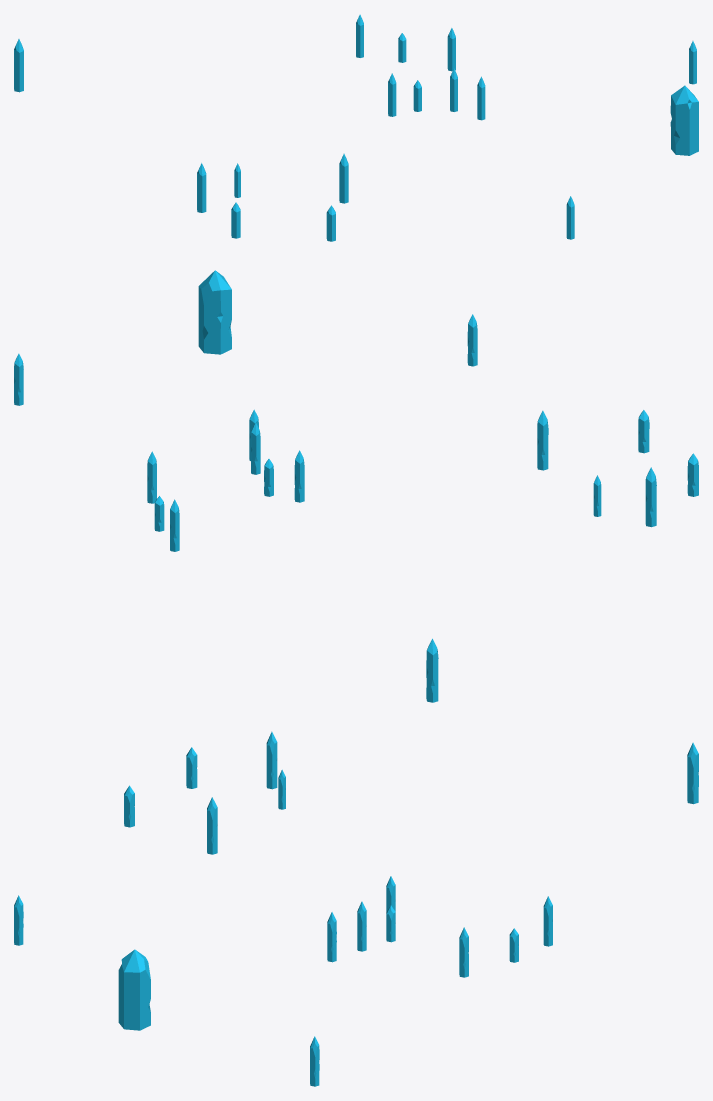
File: bright_crystal-compressed.glb
3 renders of one model, top to bottom at view 1: azimuth 30°, elevation 25°; view 2: azimuth 150°, elevation 25°; view 3: azimuth 270°, elevation 25°, orthographic. The views are drawn at different scales.
Parts seen in each view (by area): view 1: bright_crystal.006, bright_crystal.016, bright_crystal.013, bright_crystal.004; view 2: bright_crystal.006, bright_crystal.016; view 3: bright_crystal.006, bright_crystal.016, bright_crystal.004, bright_crystal.013.
Boxes of the visible parts, x1,y1,x2,y2 form: bright_crystal.006: [670, 85, 698, 155]; bright_crystal.016: [14, 39, 23, 92]; bright_crystal.013: [339, 153, 348, 203]; bright_crystal.004: [197, 163, 206, 212]; bright_crystal.006: [198, 270, 231, 354]; bright_crystal.016: [426, 638, 438, 702]; bright_crystal.006: [118, 949, 150, 1030]; bright_crystal.016: [687, 742, 698, 804]; bright_crystal.004: [266, 731, 277, 789]; bright_crystal.013: [207, 797, 217, 854].
Bounding box in the file's own units: 46.88 × 6.78 × 46.54.
